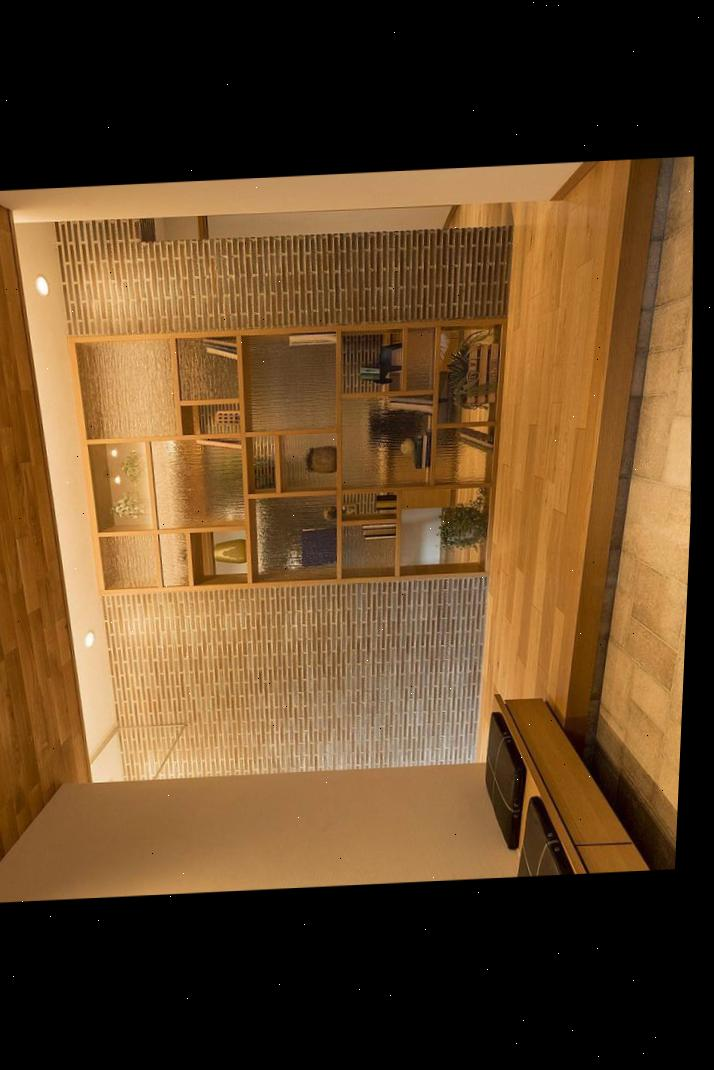floor: (591, 155, 694, 870)
safe: (448, 158, 631, 762)
